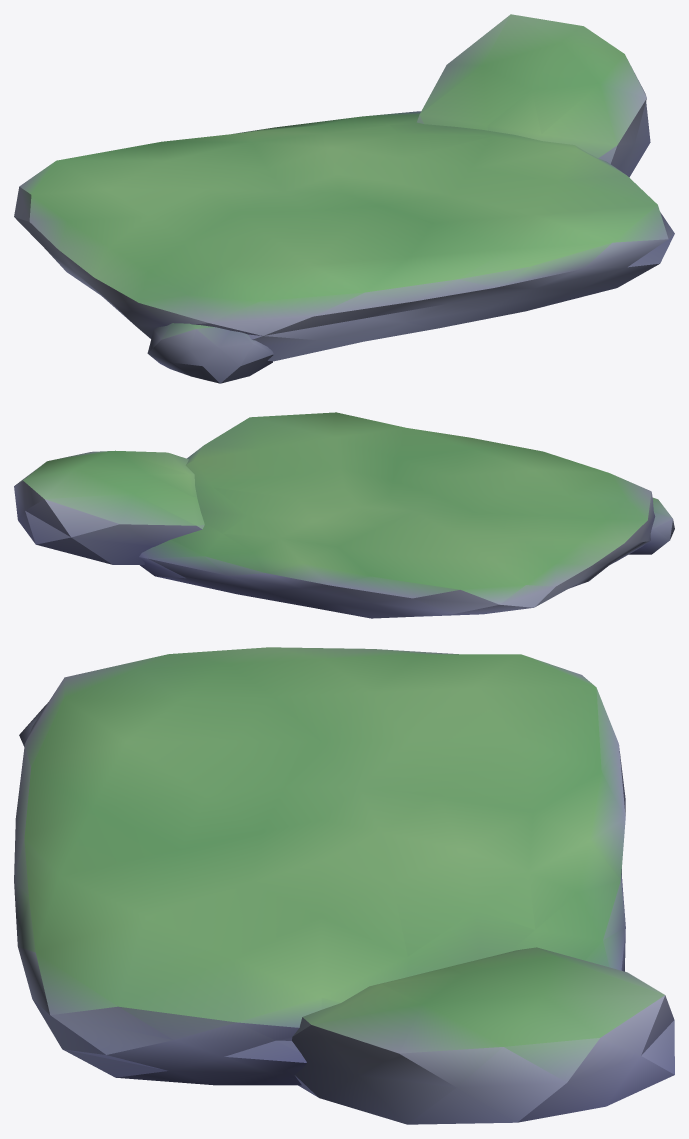
The model's file is hub_rock_slab_a.glb.
The picture shows the model from 3 angles, top to bottom: view 1: azimuth 30°, elevation 25°; view 2: azimuth 150°, elevation 25°; view 3: azimuth 270°, elevation 25°; orthographic projection. The views are drawn at different scales.
Parts seen in each view (by area): view 1: hub_rock_slab_a; view 2: hub_rock_slab_a; view 3: hub_rock_slab_a.
Part boxes in pixels (x1,y1,x2,y2): hub_rock_slab_a: (14, 14, 674, 383); hub_rock_slab_a: (14, 412, 674, 618); hub_rock_slab_a: (14, 647, 674, 1124).
Size of the model in its own units: 4.4 by 0.6963 by 2.85.
